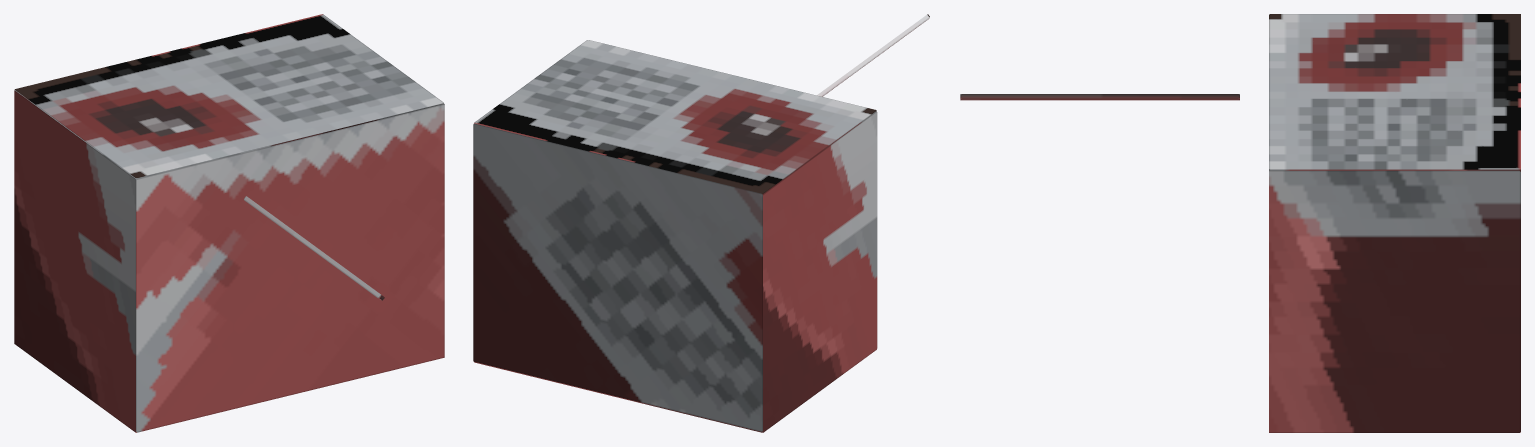
File: pz_house_premium_radio.obj
3 views of the same model, side by side, from view 1: azimuth 30°, elevation 25°; view 2: azimuth 150°, elevation 25°; view 3: azimuth 270°, elevation 25° (orthographic). The views are drawn at different scales.
Visible parts, largest first — view 1: pz_house_premium_radio_|_1_caixa_painel_nativo, pz_house_premium_radio_|_2_antena; view 2: pz_house_premium_radio_|_1_caixa_painel_nativo, pz_house_premium_radio_|_2_antena; view 3: pz_house_premium_radio_|_1_caixa_painel_nativo, pz_house_premium_radio_|_2_antena.
Part boxes in pixels (x1,y1,x2,y2): pz_house_premium_radio_|_1_caixa_painel_nativo: (14, 14, 444, 432); pz_house_premium_radio_|_2_antena: (244, 196, 384, 300); pz_house_premium_radio_|_1_caixa_painel_nativo: (473, 40, 877, 432); pz_house_premium_radio_|_2_antena: (817, 14, 929, 96); pz_house_premium_radio_|_1_caixa_painel_nativo: (1269, 14, 1520, 432); pz_house_premium_radio_|_2_antena: (960, 94, 1239, 100).
Size of the model in its own units: 0.3148 by 0.2482 by 0.48.
Materials: 1 (1 with a texture image).
